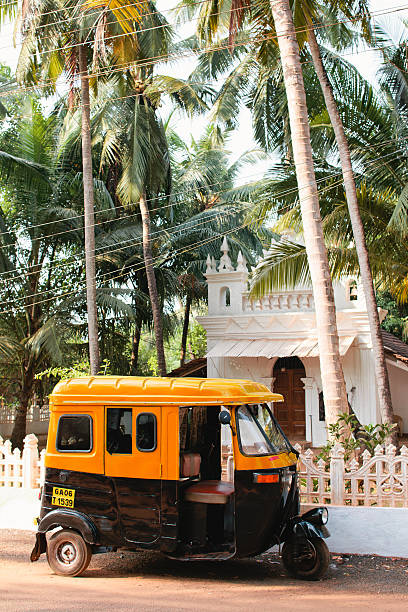threewheel: (29, 376, 333, 581)
